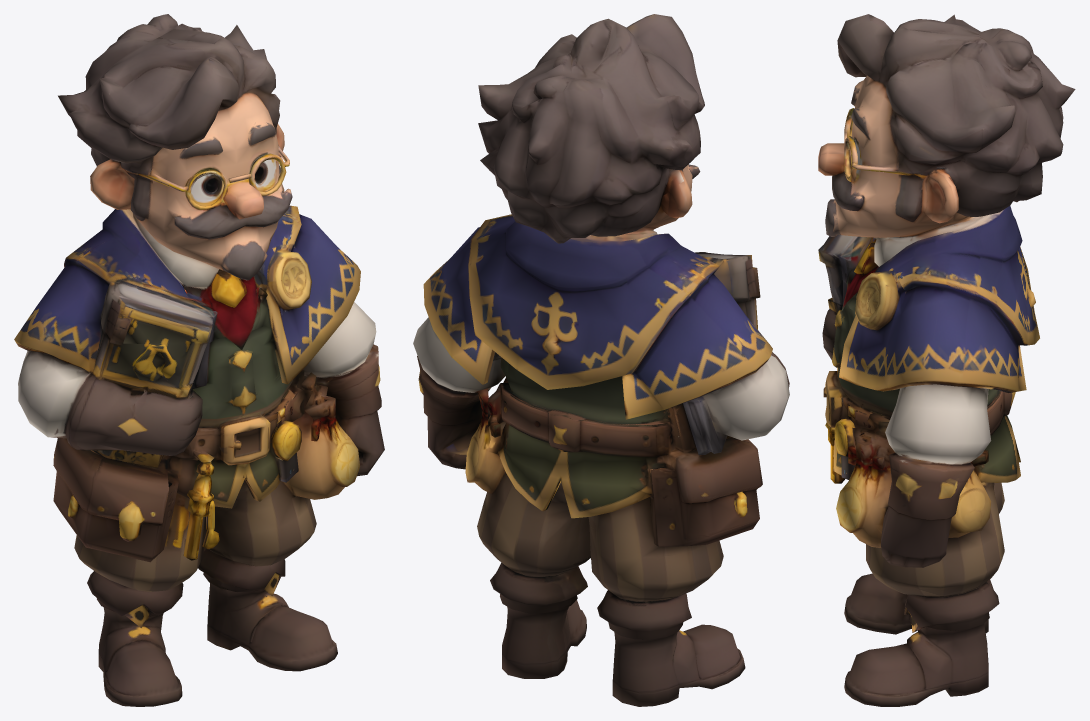
Rendered from storage.glb.
3 renders of one model, left to right at view 1: azimuth 30°, elevation 25°; view 2: azimuth 150°, elevation 25°; view 3: azimuth 270°, elevation 25°, orthographic.
Visible parts, largest first — view 1: mesh_rep_0_ori_repair; view 2: mesh_rep_0_ori_repair; view 3: mesh_rep_0_ori_repair.
Boxes of the visible parts, left/top/right/bottom form: mesh_rep_0_ori_repair: left=14, top=14, right=384, bottom=706; mesh_rep_0_ori_repair: left=413, top=14, right=789, bottom=706; mesh_rep_0_ori_repair: left=818, top=14, right=1075, bottom=706.
Size of the model in its own units: 0.9375 by 1.6 by 0.5906.
Materials: 1 (1 with a texture image).
